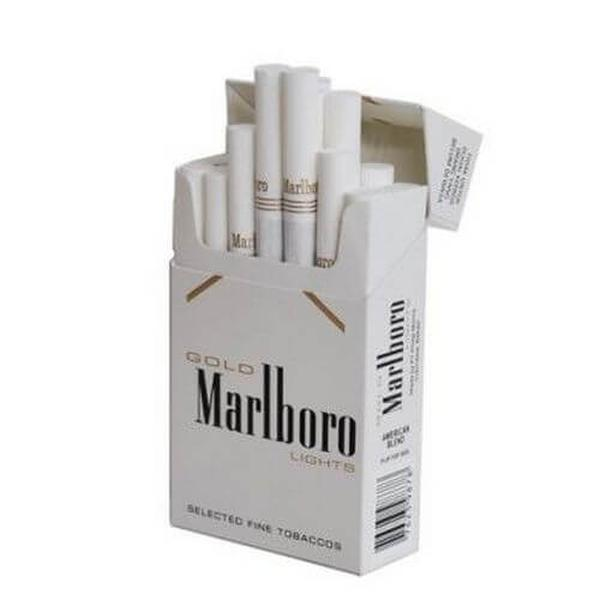marlboro_gold: (168, 212, 367, 531)
